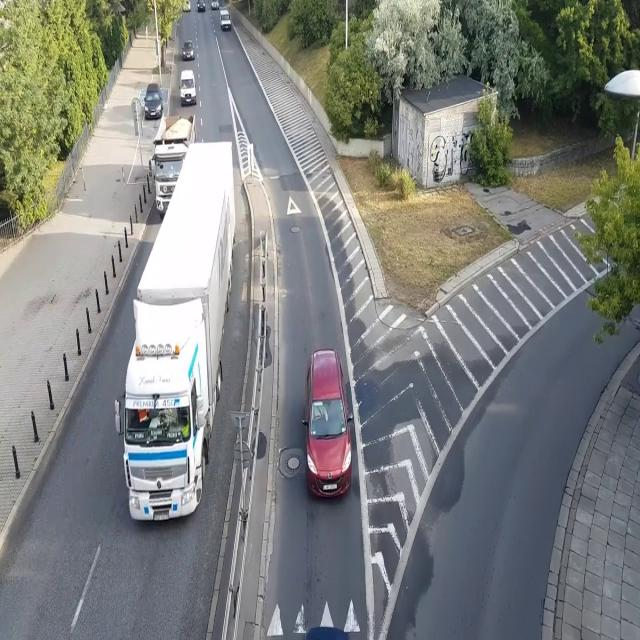car: (301, 347, 354, 501), (144, 84, 163, 119), (182, 39, 194, 61), (197, 0, 206, 13), (210, 0, 219, 10), (182, 2, 191, 12)
truck: (114, 140, 236, 527), (148, 112, 199, 222)
van: (179, 70, 197, 106), (219, 8, 232, 31)
